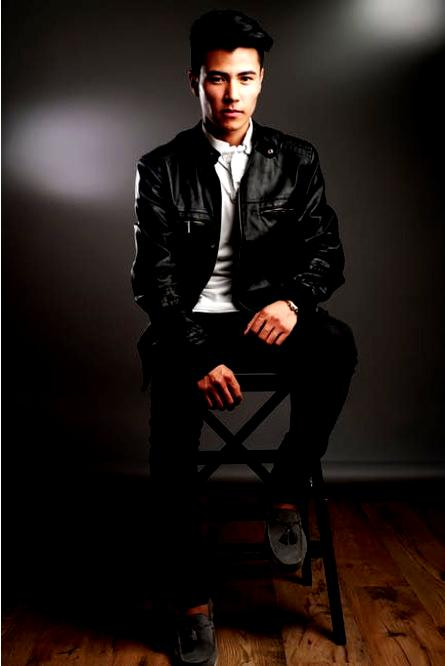face: (199, 47, 258, 129)
